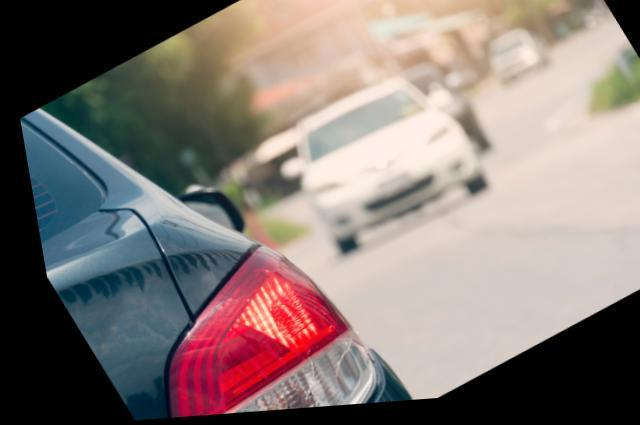lamp broken: (150, 252, 371, 419)
